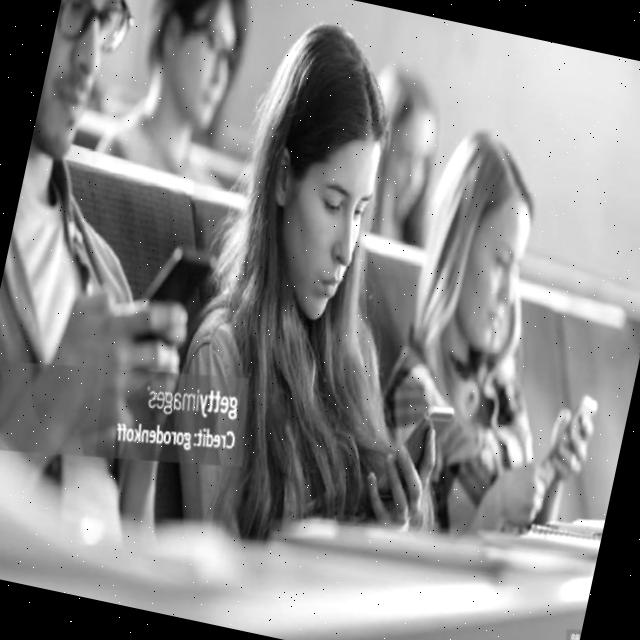phone: (125, 232, 232, 356), (362, 390, 468, 514), (530, 384, 610, 482)
